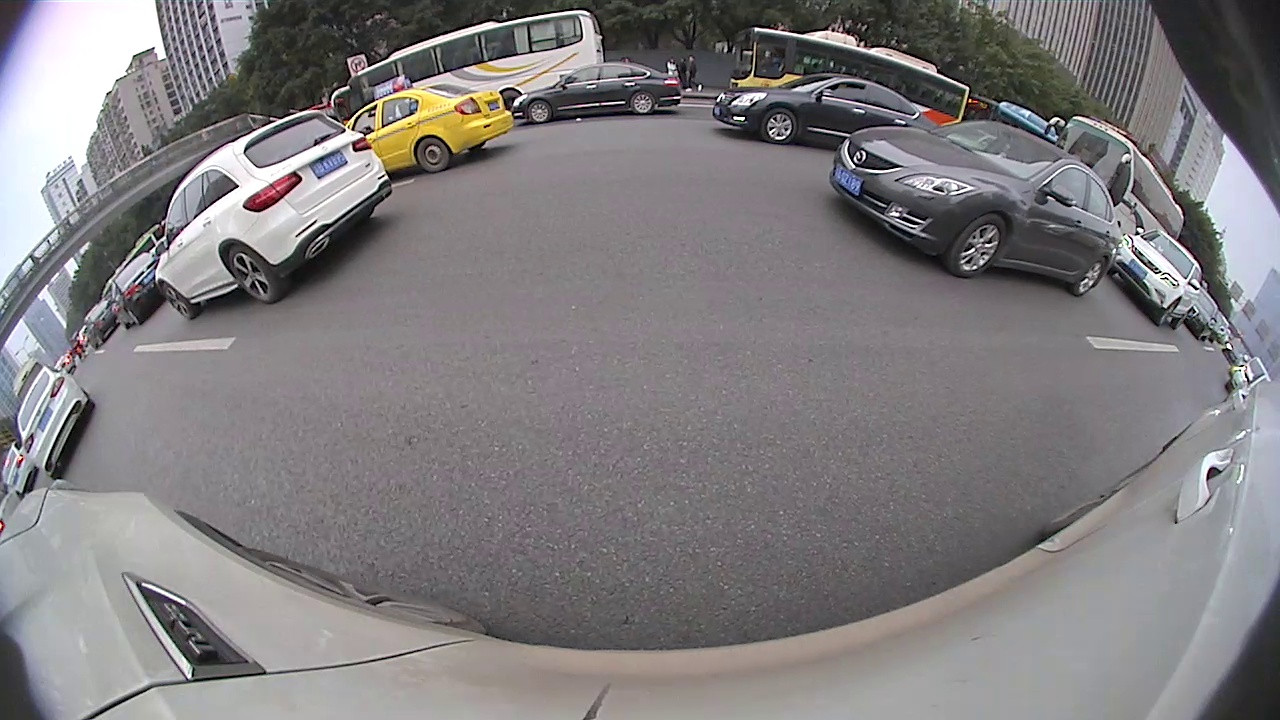bus: (731, 25, 973, 143), (351, 8, 604, 118), (1049, 115, 1185, 248)
car: (829, 118, 1118, 301), (154, 110, 394, 321), (709, 72, 925, 147), (341, 87, 513, 174), (513, 62, 683, 124), (1106, 227, 1205, 330), (17, 366, 97, 481), (109, 252, 167, 327), (82, 300, 127, 350), (0, 441, 36, 497)
front: (951, 214, 1003, 277), (159, 282, 195, 322), (763, 110, 797, 144), (530, 100, 551, 123)
rear: (228, 246, 279, 303), (1073, 258, 1104, 297), (418, 138, 450, 173), (632, 92, 653, 114)
